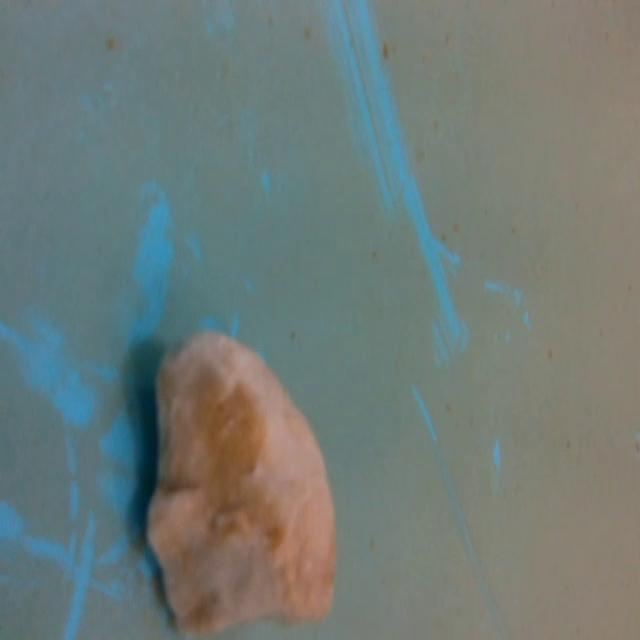rock: (129, 321, 341, 640)
